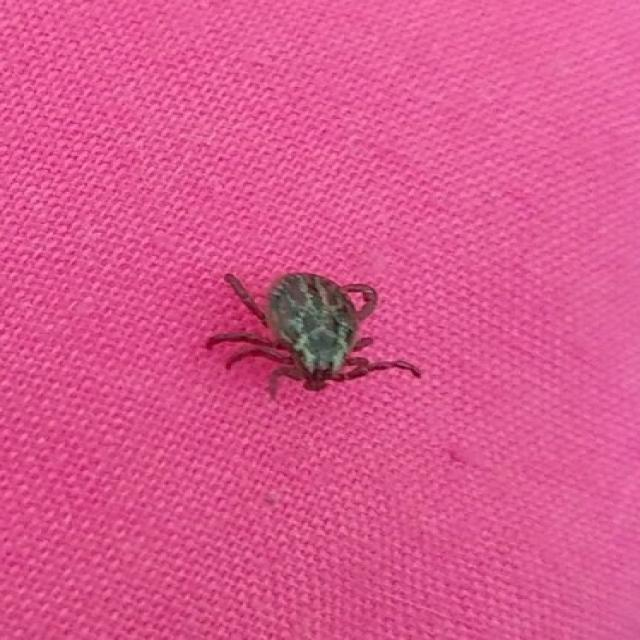Dermacentor Reticulatus-M: (204, 273, 423, 403)
